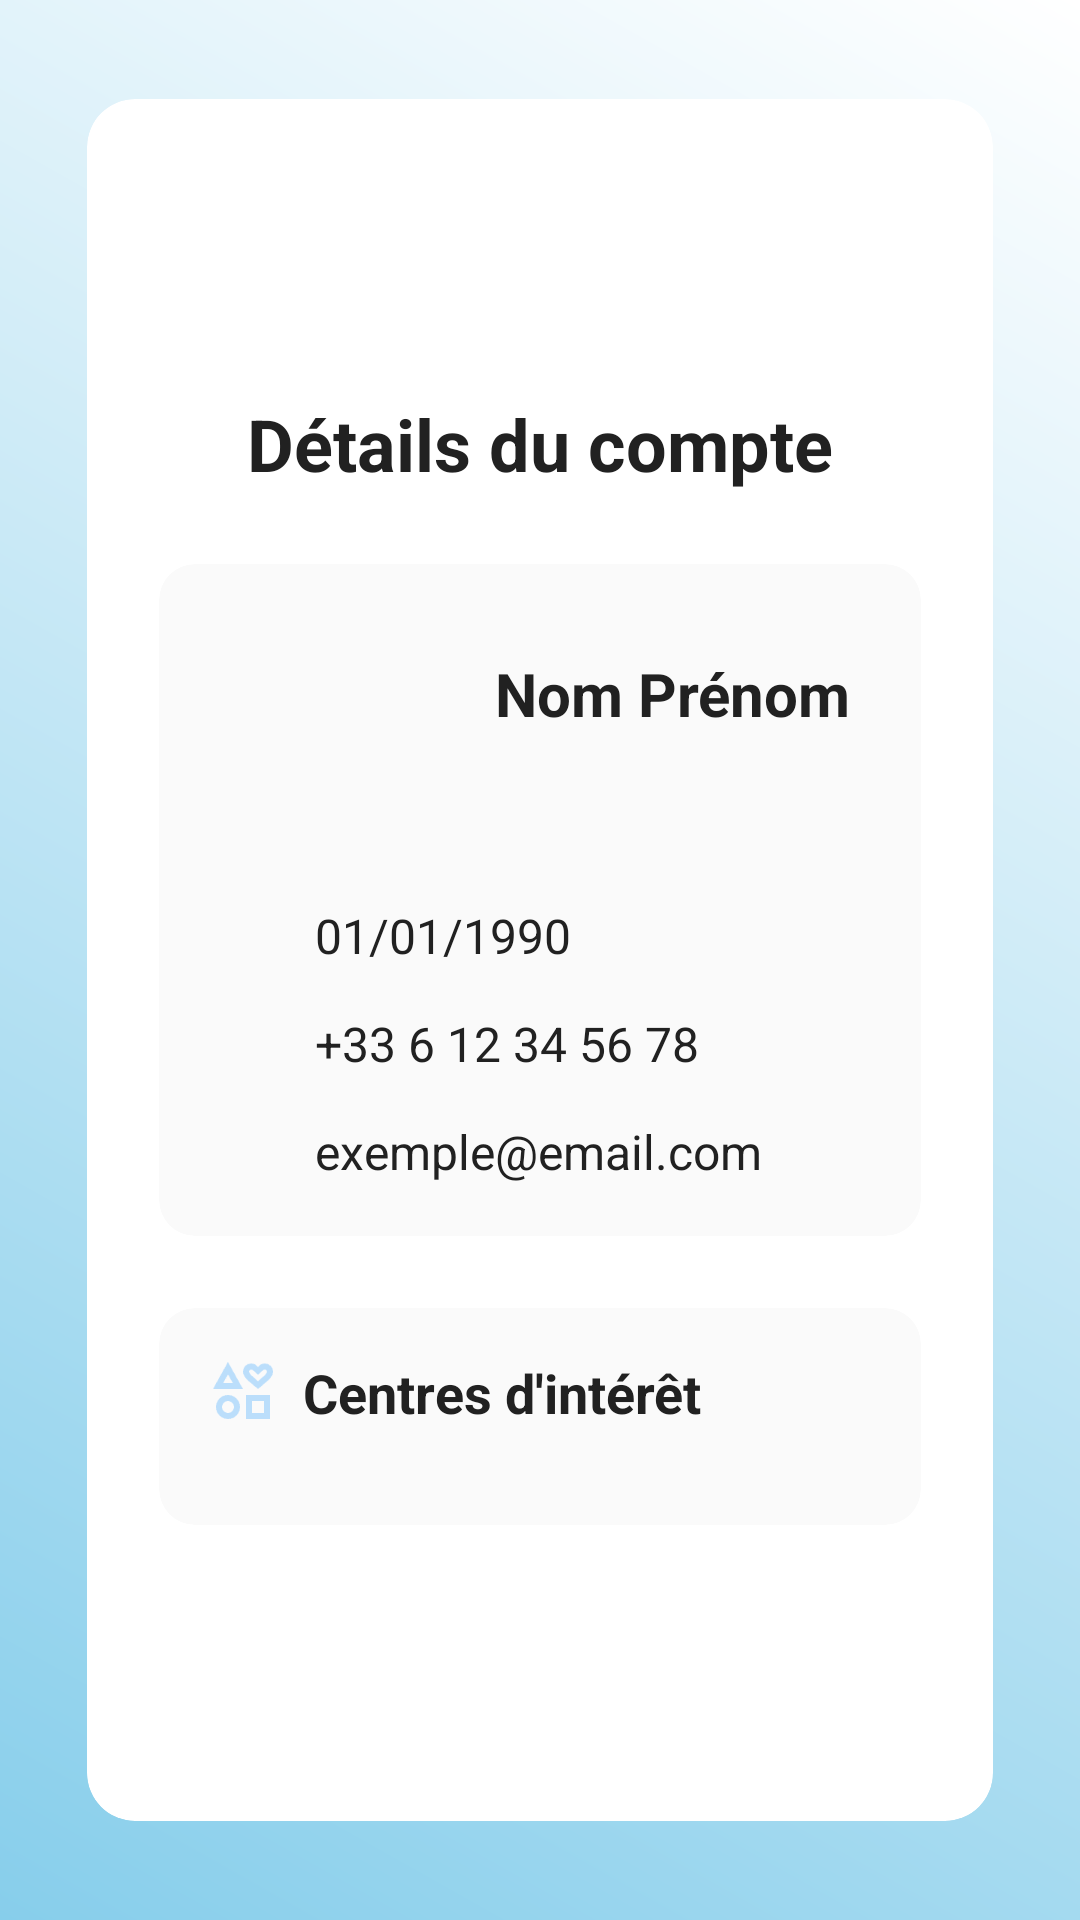

Icons on this 1080×1920 Android screen, each with its box as {"left": x1, "top": y1, "right": x2, "bottom": y2}:
interests: {"left": 213, "top": 1362, "right": 273, "bottom": 1419}
